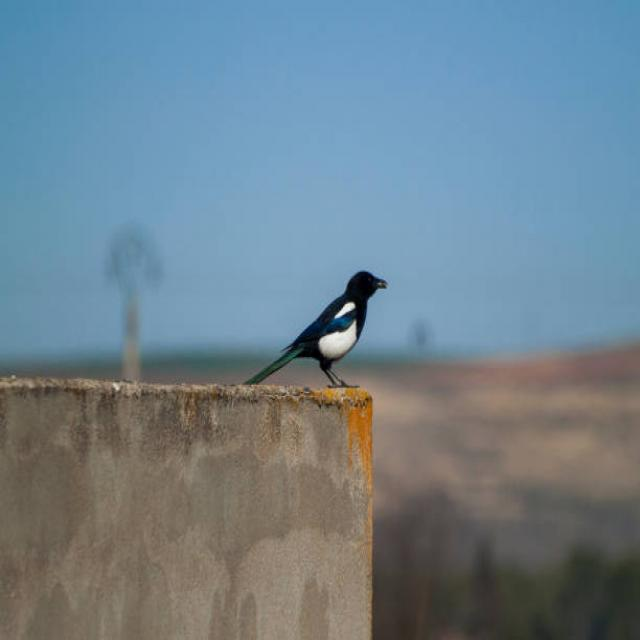Magpie: (242, 265, 392, 388)
